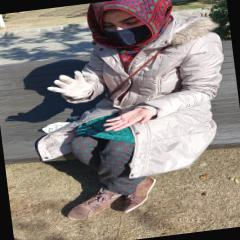gloved: (47, 68, 100, 100)
not-gloved: (101, 106, 155, 132)
